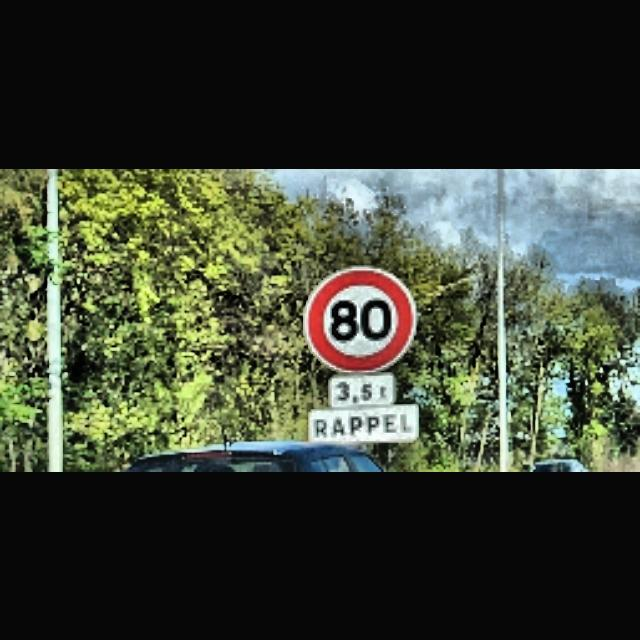speed_80: (302, 264, 418, 374)
